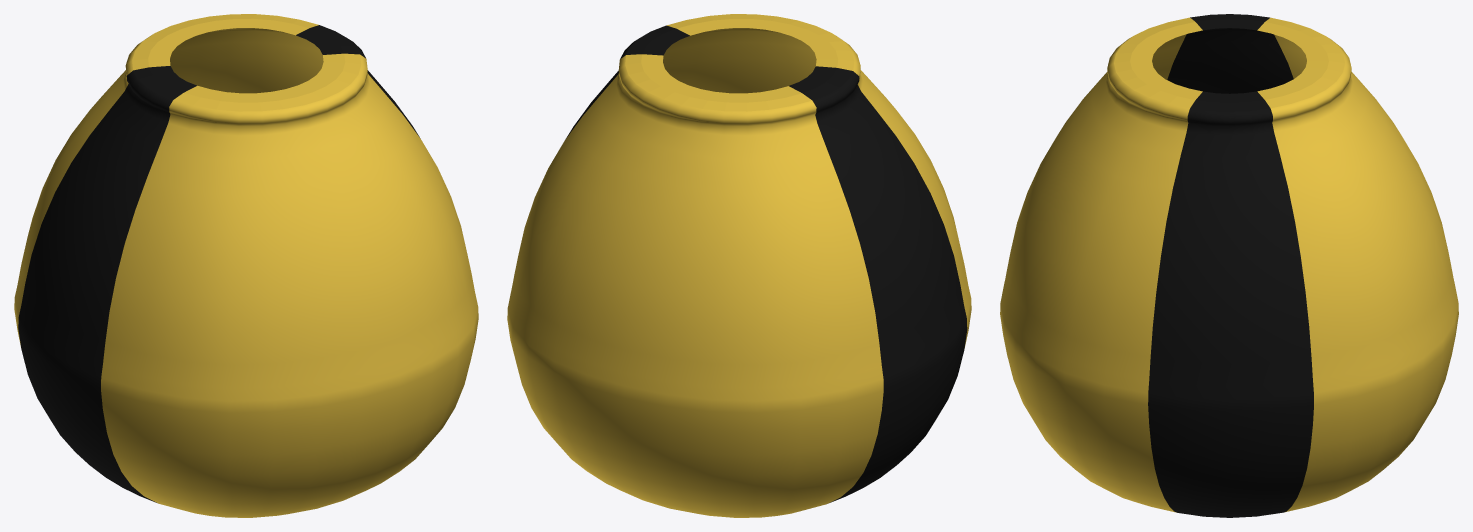
3 renders of one model, left to right at view 1: azimuth 30°, elevation 25°; view 2: azimuth 150°, elevation 25°; view 3: azimuth 270°, elevation 25°, orthographic.
Visible parts, largest first — view 1: bruce_lee_clothes; view 2: bruce_lee_clothes; view 3: bruce_lee_clothes.
Part boxes in pixels (x1=…): bruce_lee_clothes: x1=14, y1=14, x2=478, y2=517; bruce_lee_clothes: x1=507, y1=14, x2=971, y2=517; bruce_lee_clothes: x1=1000, y1=14, x2=1458, y2=517.
Size of the model in its own units: 1.36 by 1.4 by 1.36.
